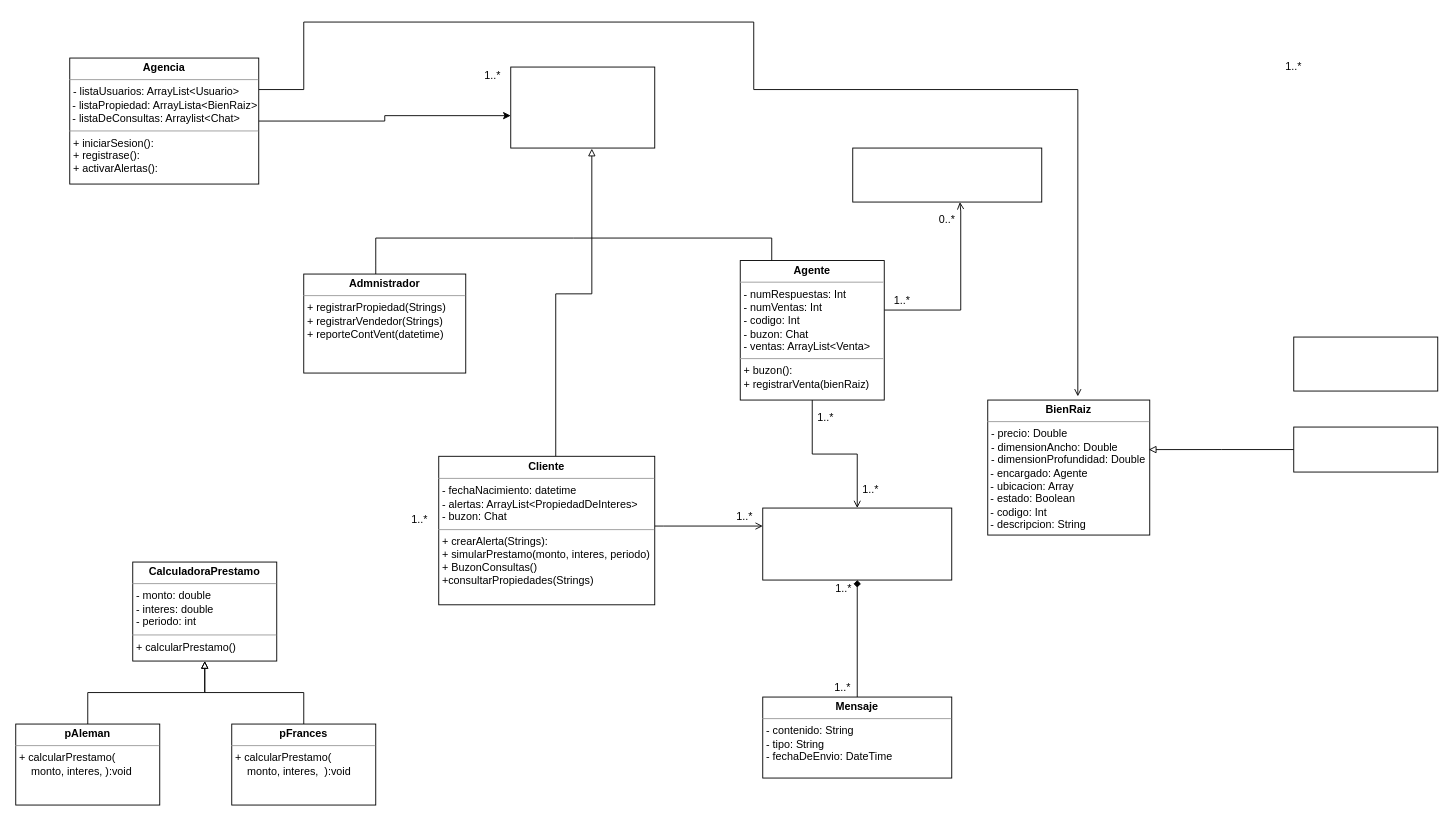
Image size: 1454x821. Some labels were removed from this diagram. The box of each missing label's shape, as (x1, y1, x2, y2) in pixels:
Chat -propiedad: Propiedad - listaMsjs: ArrayList<Mensaje>: (762, 507, 952, 580)
Terreno - tipo: String: (1293, 426, 1438, 472)
Usuario - nombre: String - correo: String - contrasenia:String - cedula: String: (510, 66, 655, 148)
Venta - comprador: Cliente - fechaVenta: datetime: (852, 147, 1042, 202)
Vivienda - nHabitaciones: Int - nPisos: Int: (1293, 336, 1438, 391)
